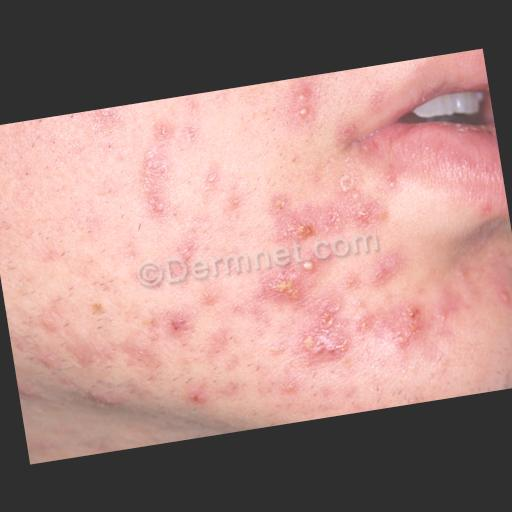Skin_Lesion: (118, 113, 188, 225), (294, 301, 359, 373), (268, 187, 326, 249), (280, 75, 326, 131), (386, 300, 430, 352), (258, 264, 308, 308), (366, 250, 406, 287), (348, 196, 386, 232), (85, 106, 123, 138), (166, 232, 199, 264), (365, 82, 393, 116), (196, 164, 227, 194), (163, 306, 190, 340), (199, 276, 223, 308), (375, 165, 400, 194), (36, 308, 63, 334), (149, 118, 174, 144), (188, 382, 208, 410), (94, 273, 116, 295), (302, 252, 322, 276), (495, 283, 512, 309), (90, 298, 108, 318), (60, 112, 84, 124), (26, 117, 48, 128), (479, 202, 496, 216)
